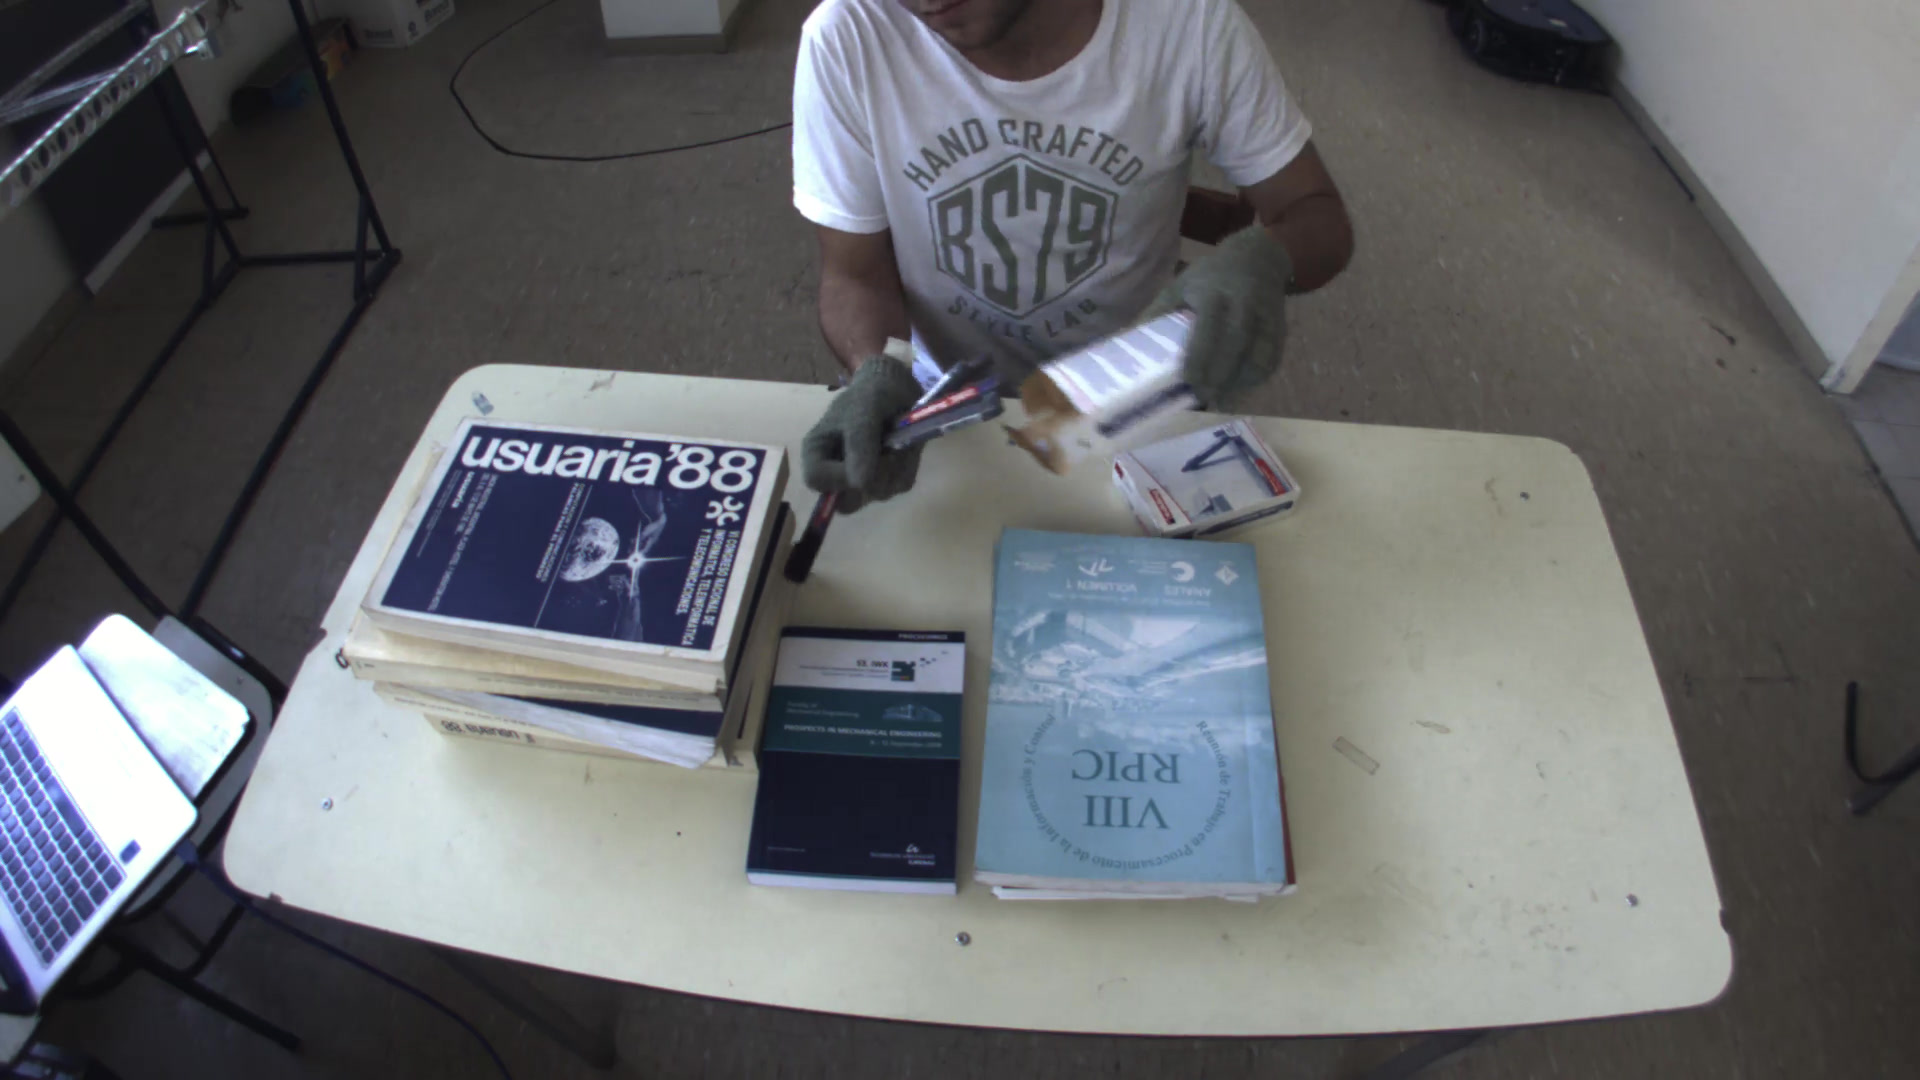hand: (1158, 220, 1307, 397), (790, 351, 924, 520)
